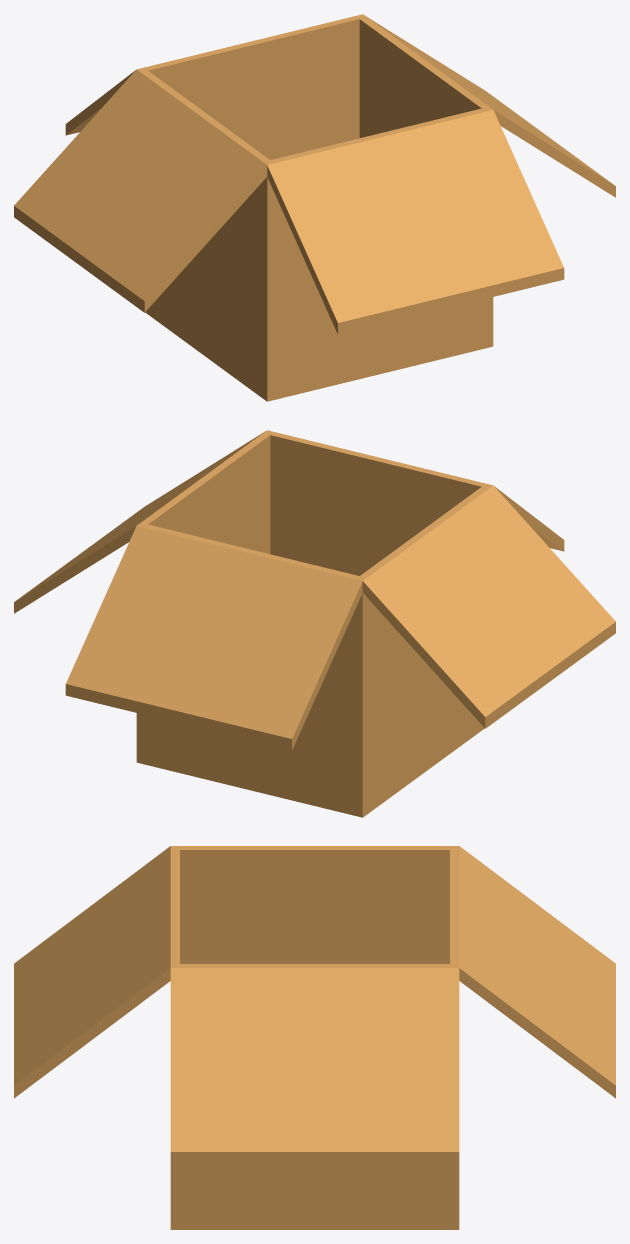
Rendered from Box opened.fbx.
3 renders of one model, top to bottom at view 1: azimuth 30°, elevation 25°; view 2: azimuth 150°, elevation 25°; view 3: azimuth 270°, elevation 25°, orthographic. The views are drawn at different scales.
Parts seen in each view (by area): view 1: Cube; view 2: Cube; view 3: Cube.
Boxes of the visible parts, x1=… form: Cube: x1=14, y1=14, x2=615, y2=401; Cube: x1=14, y1=430, x2=615, y2=817; Cube: x1=14, y1=846, x2=615, y2=1229.
Size of the model in its own units: 417 by 200 by 417.
